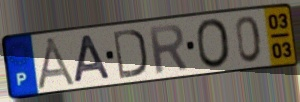0: (234, 15, 263, 64)
A: (35, 36, 80, 91), (72, 33, 113, 85)
D: (111, 27, 149, 81)
O: (194, 17, 233, 70)
R: (146, 22, 190, 76)
